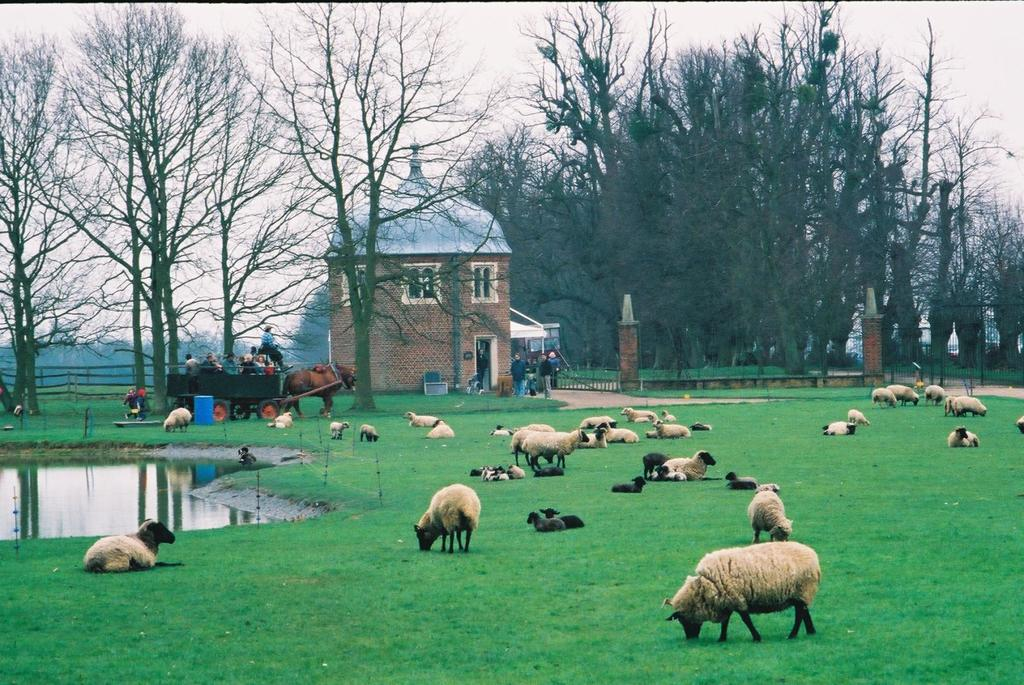sheep: (662, 539, 823, 644), (81, 514, 187, 572), (408, 487, 478, 551)
